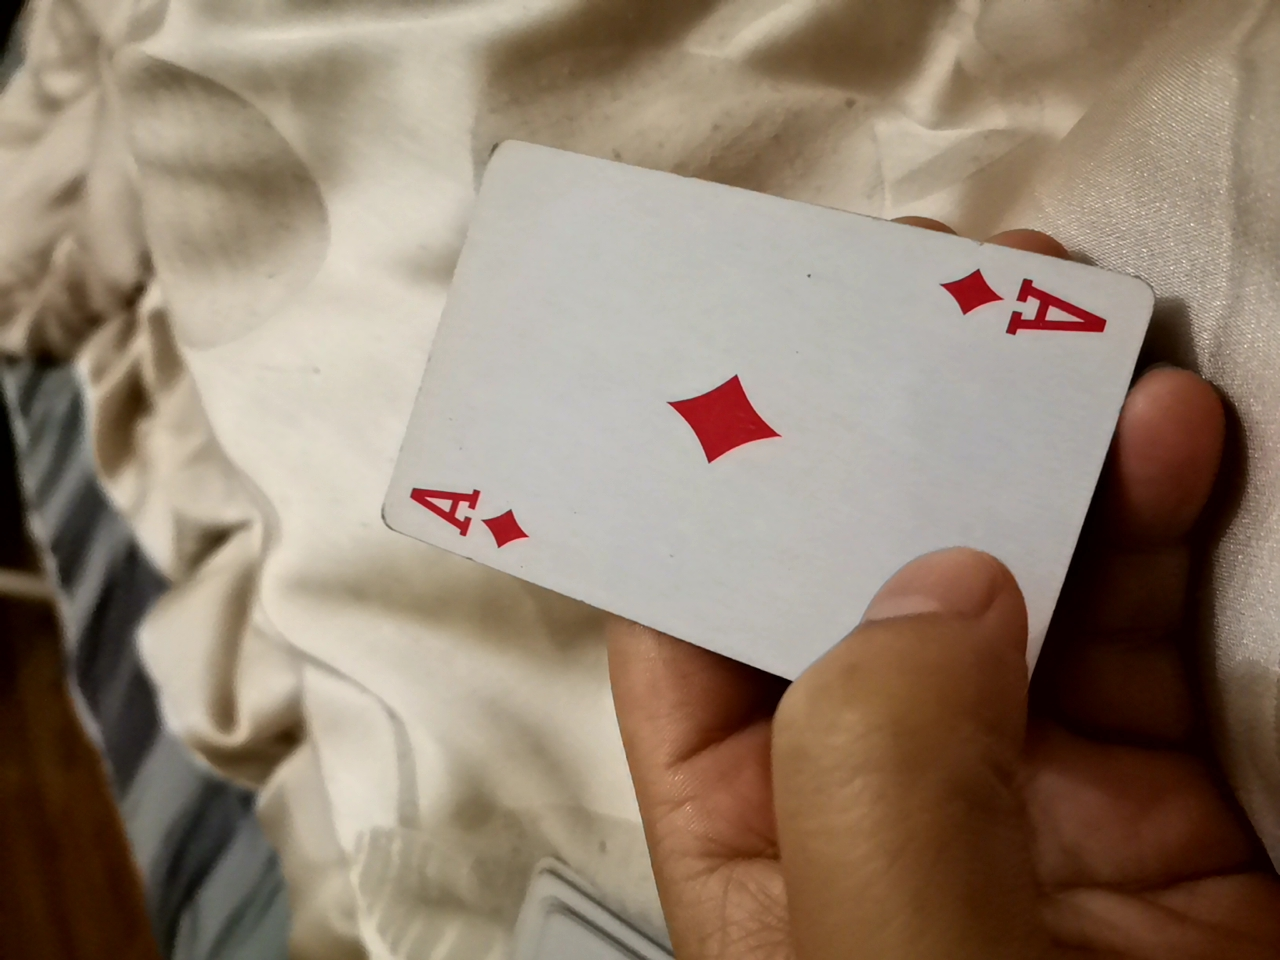fk a: (394, 151, 1150, 712)
